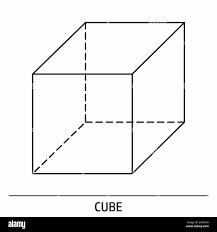cubos: (26, 17, 191, 177)
